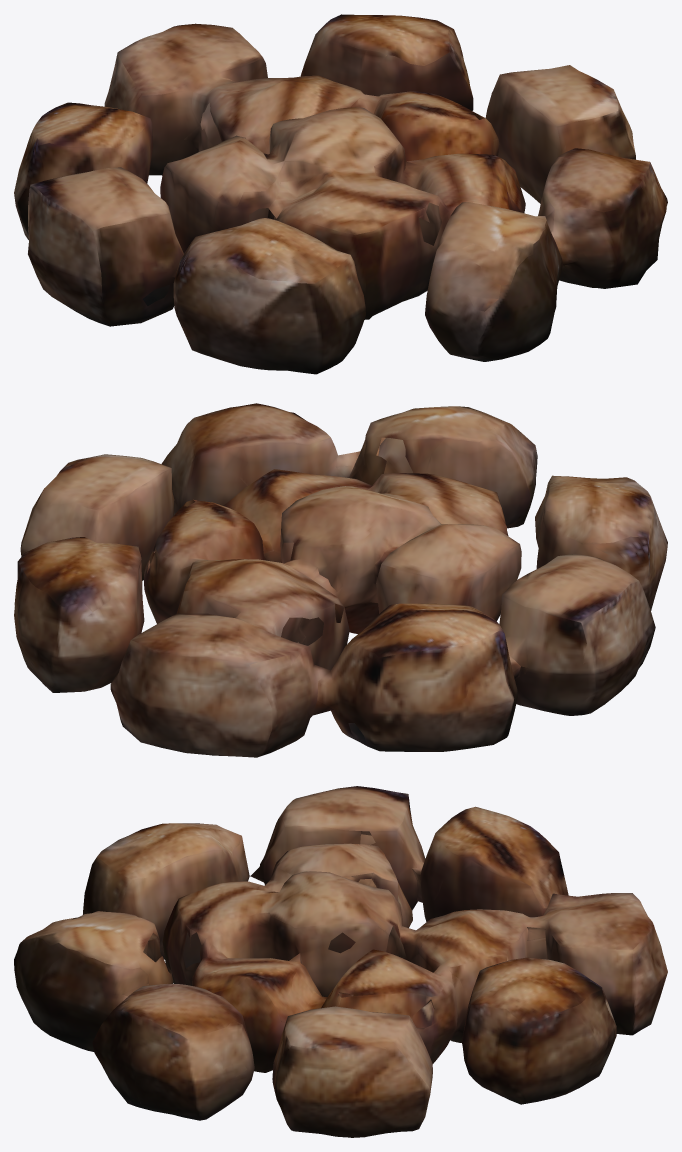
File: meat_cooked.glb
The picture shows the model from 3 angles, top to bottom: view 1: azimuth 30°, elevation 25°; view 2: azimuth 150°, elevation 25°; view 3: azimuth 270°, elevation 25°; orthographic projection. The views are drawn at different scales.
Parts seen in each view (by area): view 1: Meatballs; view 2: Meatballs; view 3: Meatballs.
Part boxes in pixels (x1=…): Meatballs: x1=14, y1=14, x2=667, y2=374; Meatballs: x1=14, y1=403, x2=667, y2=757; Meatballs: x1=14, y1=786, x2=667, y2=1137.
Bounding box in the file's own units: 0.1437 × 0.0337 × 0.15.
1 material, 1 textured.
